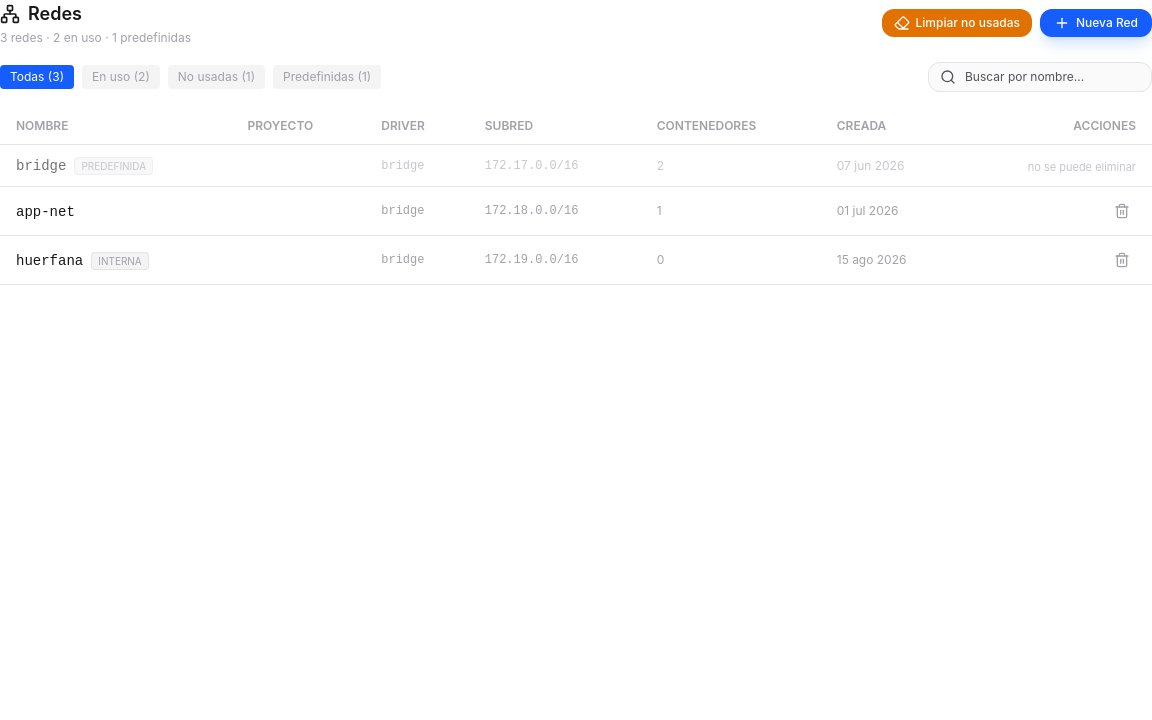
Test: NetworksView › explica que sin subred Docker asigna la siguiente libre
This screenshot has width=1152, height=720.
Expected: the button "app-net" is shown, x1=16 y1=202 x2=75 y2=222
Click the button "Nueva Red" at (1096, 23), box x1=1040 y1=9 x2=1151 y2=37
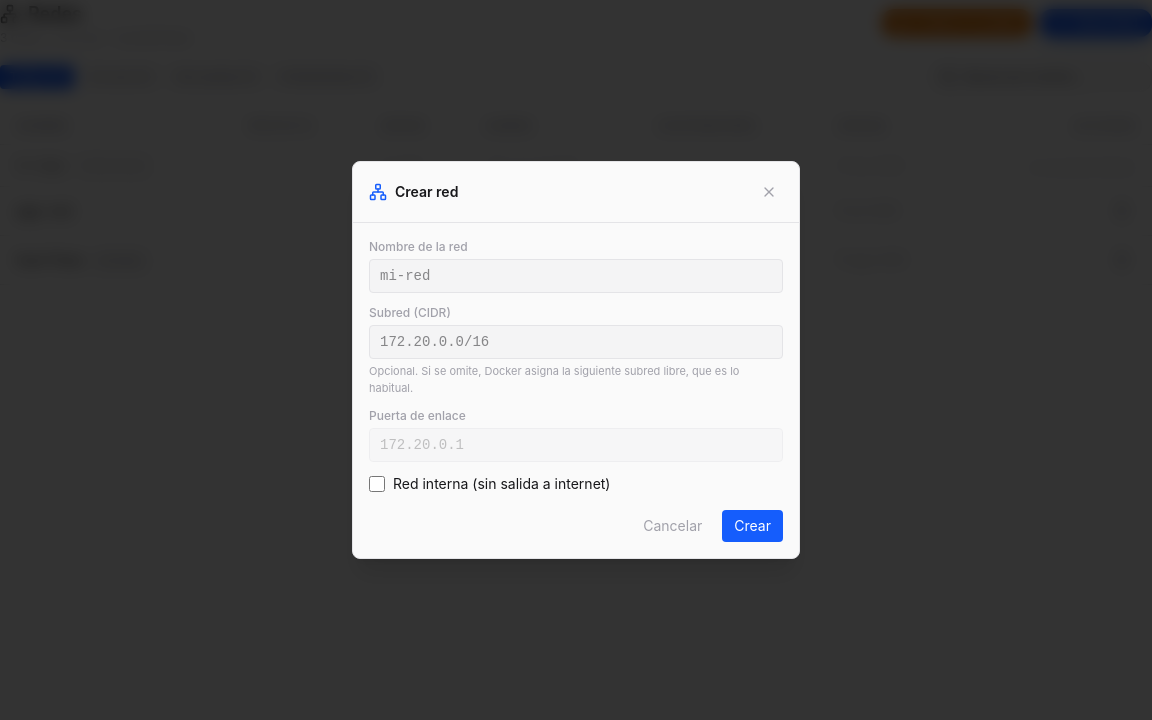
Expected: the text "siguiente subred libre" is shown, x1=369 y1=364 x2=739 y2=394
